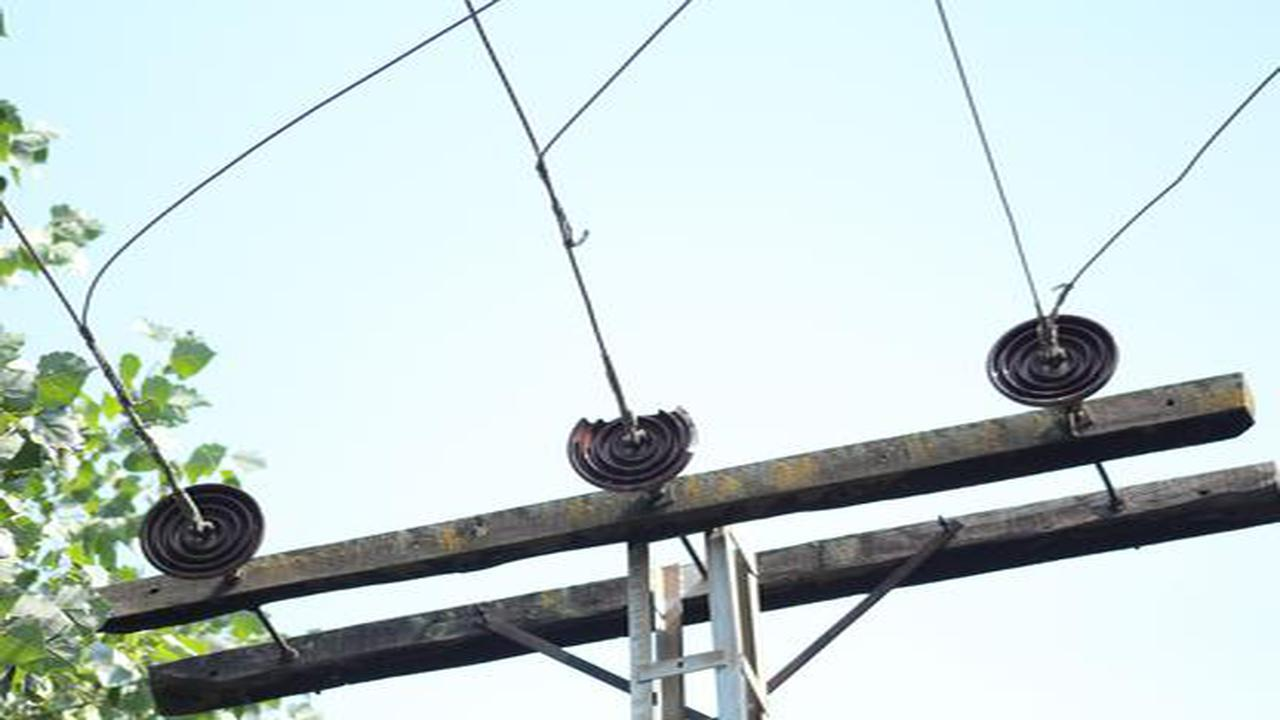defect_disc: (564, 404, 711, 498)
insulator_disc: (981, 307, 1124, 411), (141, 482, 270, 585)
